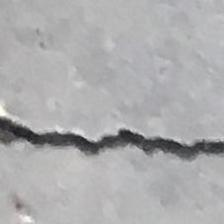Crack: (0, 100, 214, 153)
